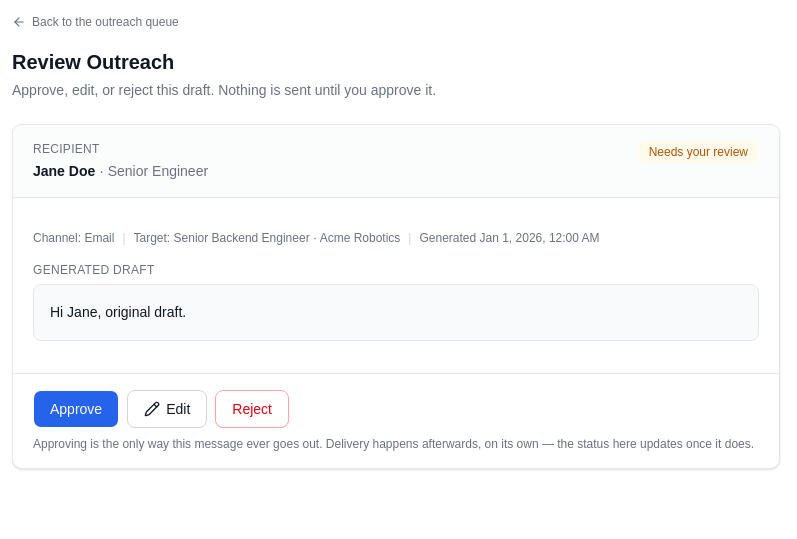
Test: OutreachReviewPage (deep link) › Edit then still-actionable: after a real edit + refetch, the page shows the edited message and EDITED status, with Approve/Reject still available
Expected: the text "Hi Jane, original draft." is shown, [33, 284, 759, 341]
Click the button "Edit". click: [167, 409]
box: [127, 390, 207, 428]
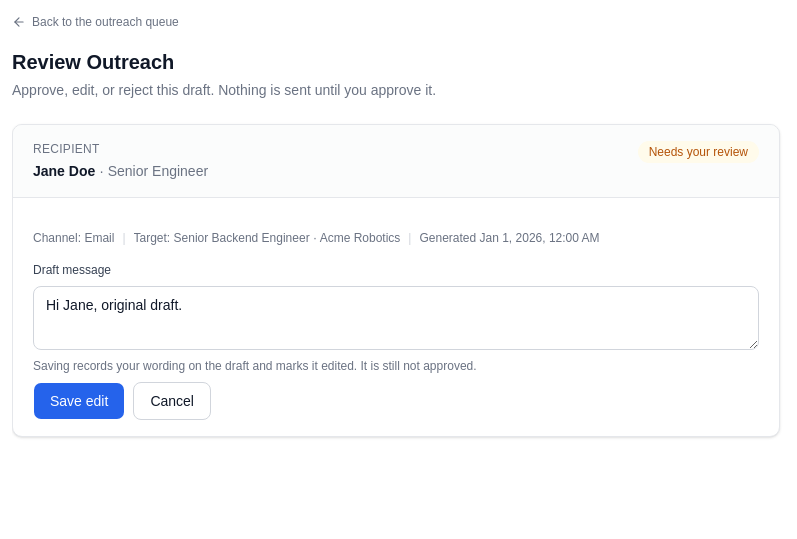
Click the button "Save edit". click: [79, 401]
box: [33, 382, 125, 420]
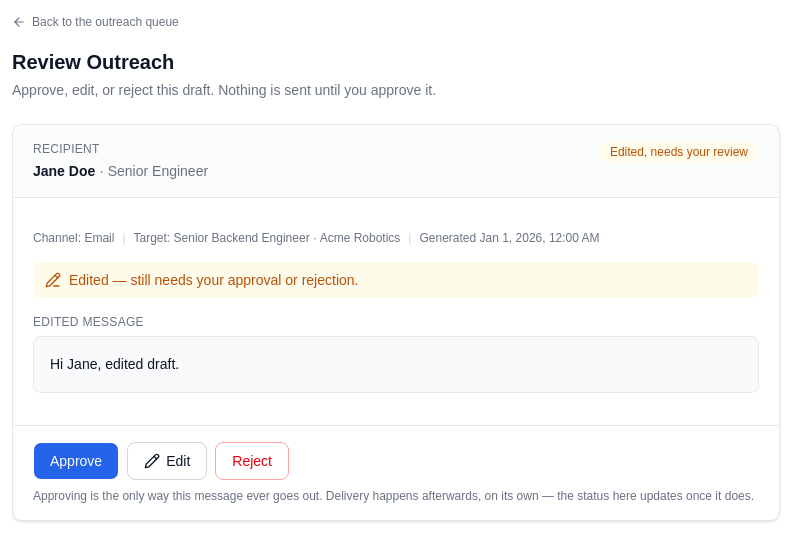
Expected: the text "Hi Jane, edited draft." is shown, [33, 336, 759, 393]
Expected: the text "Edited — still needs your approval or rejection." is shown, [69, 270, 358, 290]
Expected: the button "Reject" is shown, [215, 442, 289, 480]
